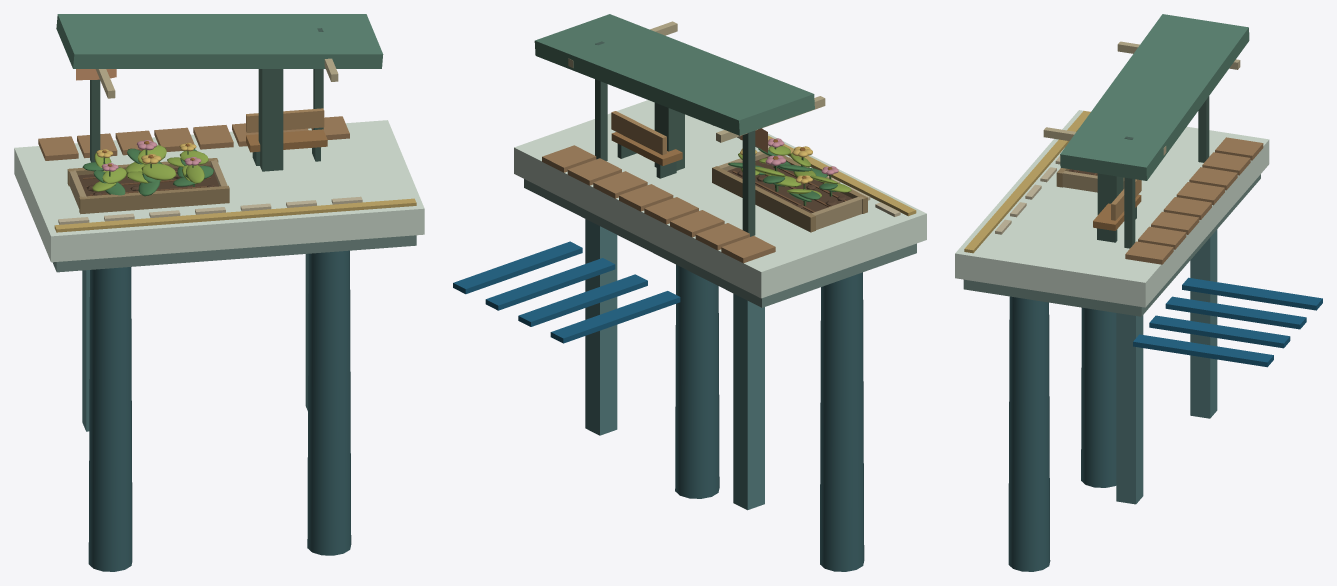
The model's file is unit_03.glb.
3 renders of one model, left to right at view 1: azimuth 30°, elevation 25°; view 2: azimuth 150°, elevation 25°; view 3: azimuth 270°, elevation 25°, orthographic. The views are drawn at different scales.
Parts seen in each view (by area): view 1: unit_03; view 2: unit_03; view 3: unit_03.
Part boxes in pixels (x1,y1,x2,y2): unit_03: (14,14,424,571); unit_03: (453,14,926,571); unit_03: (955,14,1322,571).
Size of the model in its own units: 9.28 by 11.6 by 8.35.
